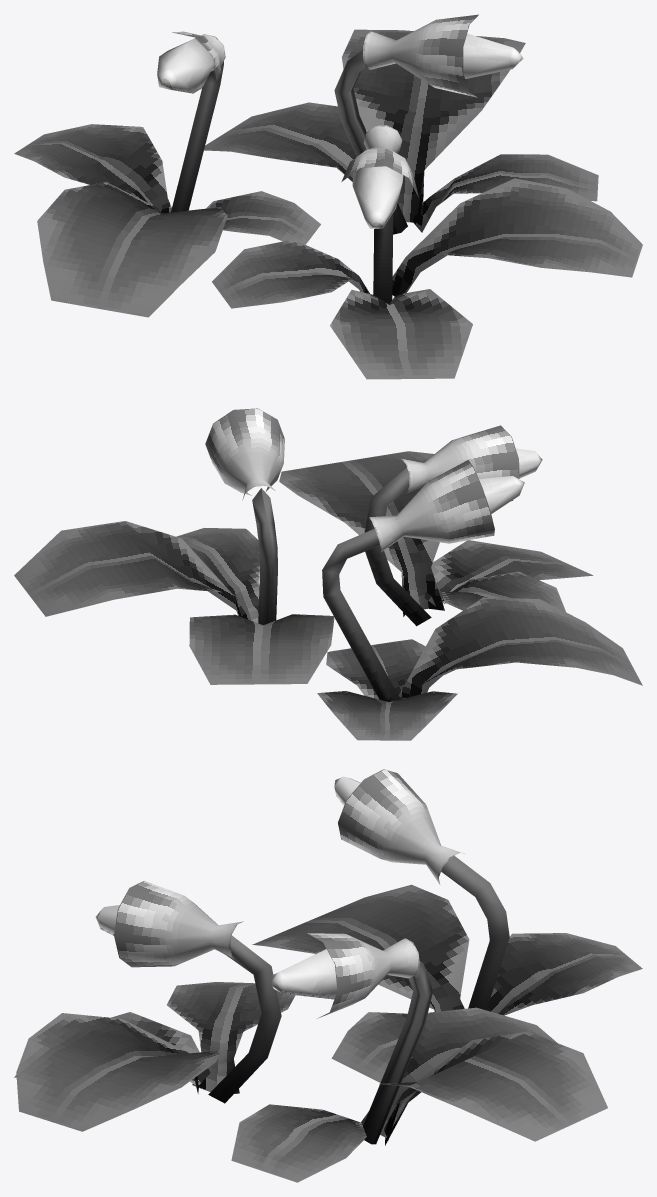
The model's file is PltFlwPansy0.glb.
3 renders of one model, top to bottom at view 1: azimuth 30°, elevation 25°; view 2: azimuth 150°, elevation 25°; view 3: azimuth 270°, elevation 25°, orthographic. The views are drawn at different scales.
Parts seen in each view (by area): view 1: Leaf14__mPansyBody, pCylinder12_1__mPansyFlower; view 2: Leaf14__mPansyBody, pCylinder12_1__mPansyFlower; view 3: Leaf14__mPansyBody, pCylinder12_1__mPansyFlower.
Boxes of the visible parts, x1,y1,x2,y2 form: Leaf14__mPansyBody: (14,14,642,379); pCylinder12_1__mPansyFlower: (157,33,523,228); Leaf14__mPansyBody: (14,408,642,740); pCylinder12_1__mPansyFlower: (479,448,542,513); Leaf14__mPansyBody: (14,769,642,1182); pCylinder12_1__mPansyFlower: (95,776,360,999).
Bounding box in the file's own units: 9.86 × 4.32 × 9.28.
2 materials, 2 textured.
